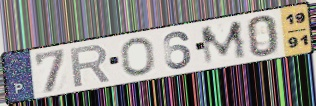0: (246, 13, 279, 58)
6: (162, 30, 194, 70)
7: (32, 47, 67, 94)
M: (198, 19, 249, 67)
O: (119, 36, 157, 77)
R: (68, 43, 112, 89)
